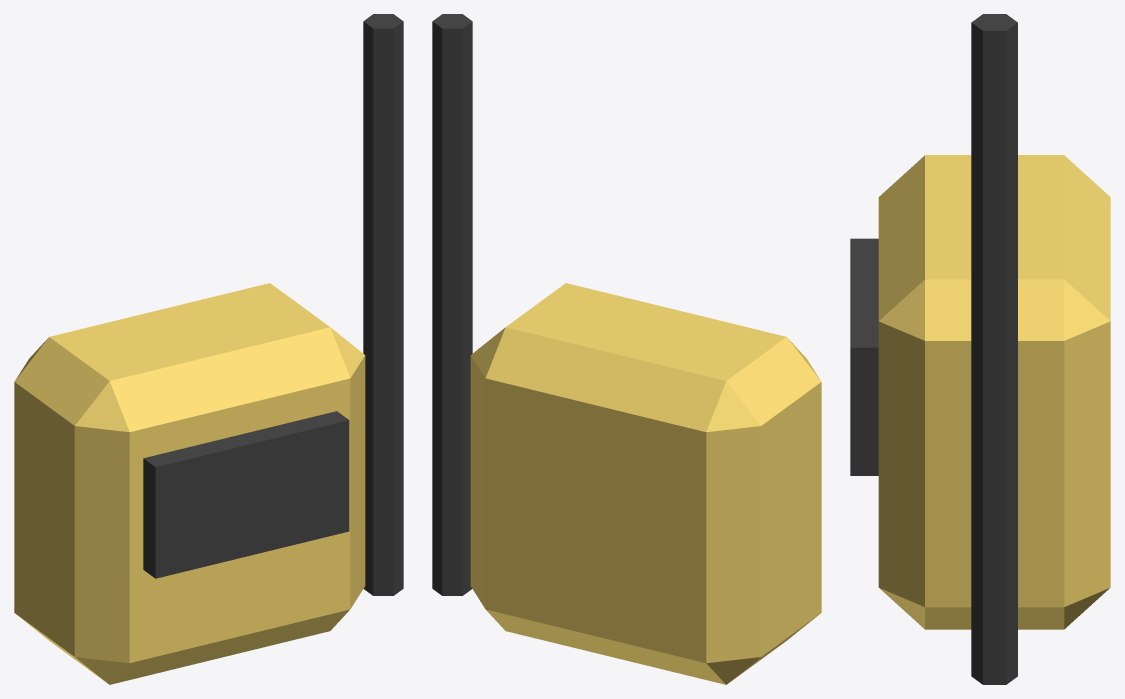
3 renders of one model, left to right at view 1: azimuth 30°, elevation 25°; view 2: azimuth 150°, elevation 25°; view 3: azimuth 270°, elevation 25°, orthographic. The views are drawn at different scales.
Visible parts, largest first — view 1: Meter, Readout, Probe; view 2: Meter, Probe; view 3: Meter, Probe, Readout.
Part boxes in pixels (bbox=[...]): Meter: bbox=[14, 283, 365, 684]; Readout: bbox=[143, 411, 349, 578]; Probe: bbox=[363, 14, 403, 595]; Meter: bbox=[470, 283, 821, 684]; Probe: bbox=[432, 14, 472, 595]; Meter: bbox=[878, 155, 1110, 629]; Probe: bbox=[971, 14, 1017, 684]; Readout: bbox=[850, 238, 878, 475].
Size of the model in its own units: 18.28 by 28 by 10.1.
